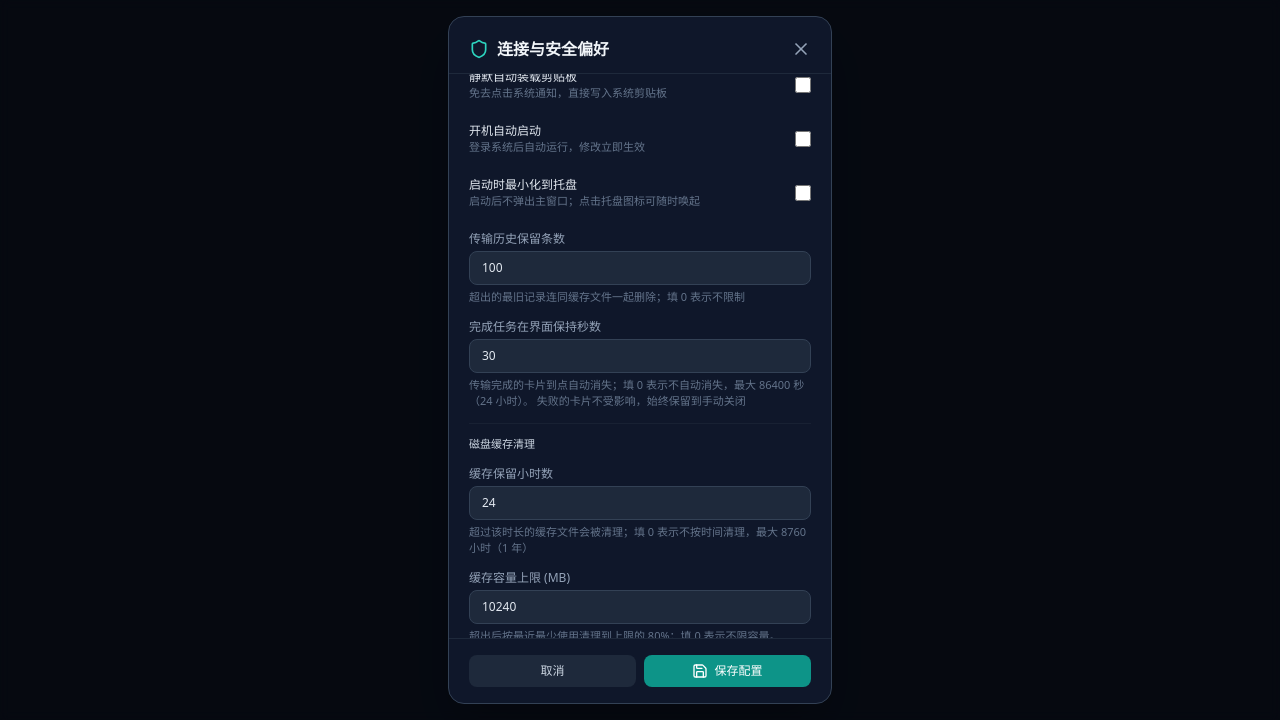
Scenario: 设置面板的数值校验 › 保持秒数超过 86400 被拦下——再大就会撞上 setTimeout 的 32 位上限
(page scrolled)
Replace the text in the number field labelled "完成任务在界面保持秒数" with "99999999": (640, 356) [469,339,811,373]
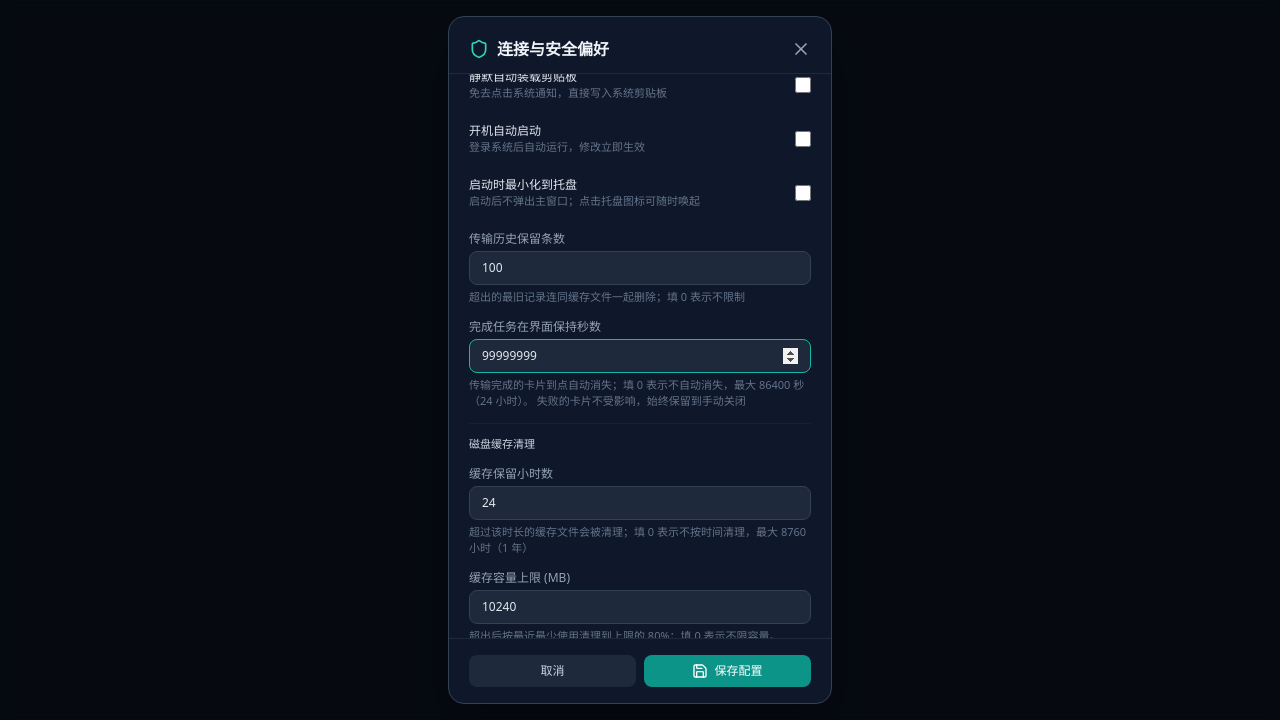
Click the button "保存配置": (728, 671) [644,655,811,687]
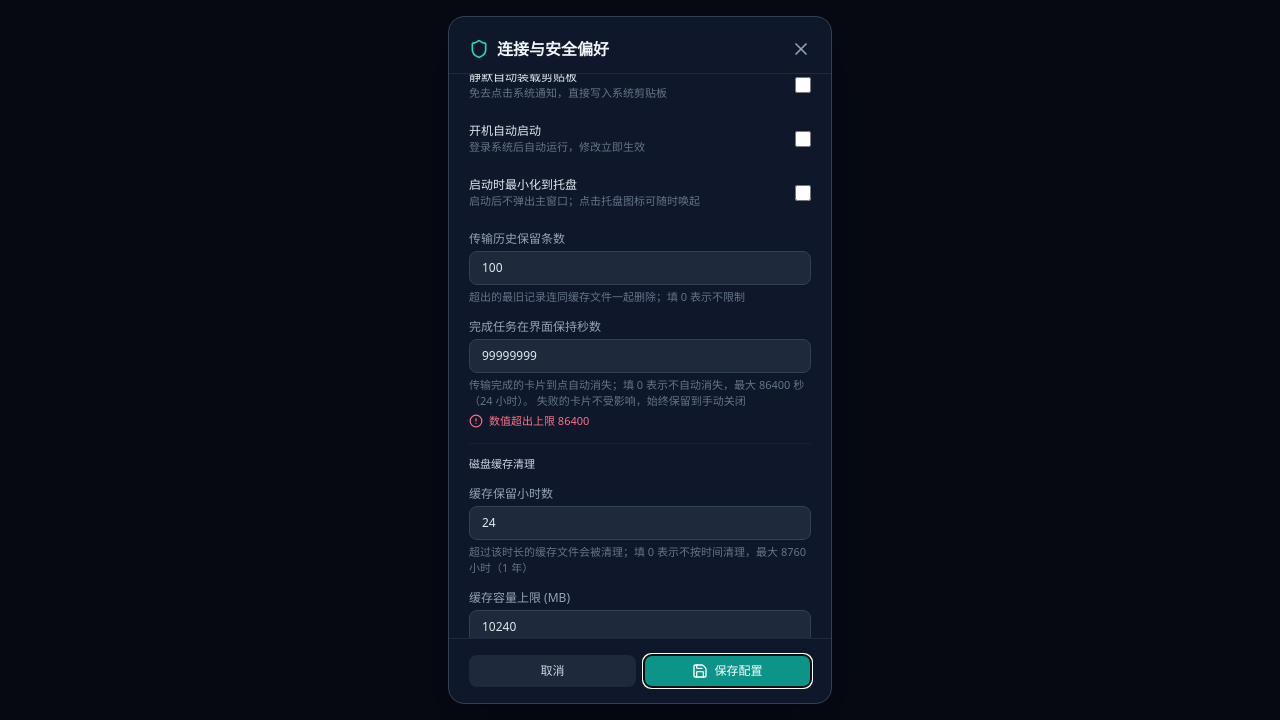
Now the text "数值超出上限 86400" is shown, box [489,413,589,429]
